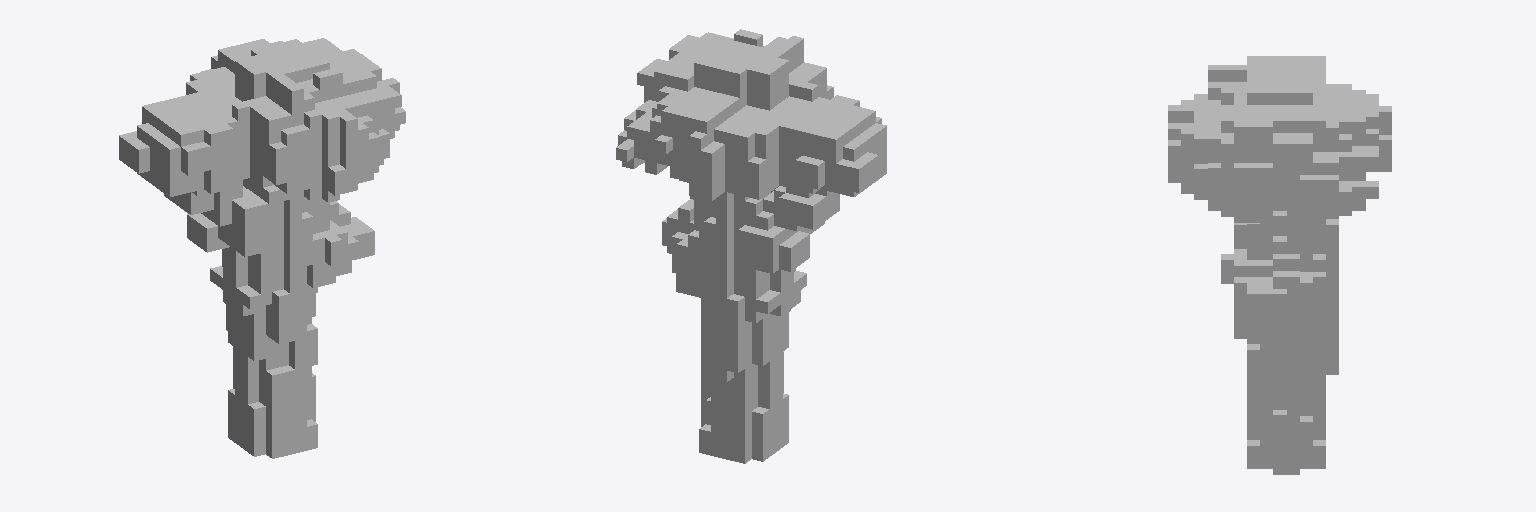
The model's file is Birch Tree.obj.
3 renders of one model, left to right at view 1: azimuth 30°, elevation 25°; view 2: azimuth 150°, elevation 25°; view 3: azimuth 270°, elevation 25°, orthographic.
Visible parts, largest first — view 1: Birch Tree; view 2: Birch Tree; view 3: Birch Tree.
Boxes of the visible parts, x1,y1,x2,y2 form: Birch Tree: [119, 38, 405, 458]; Birch Tree: [616, 29, 886, 463]; Birch Tree: [1168, 56, 1391, 474].
Bounding box in the file's own units: 20 × 32 × 17.